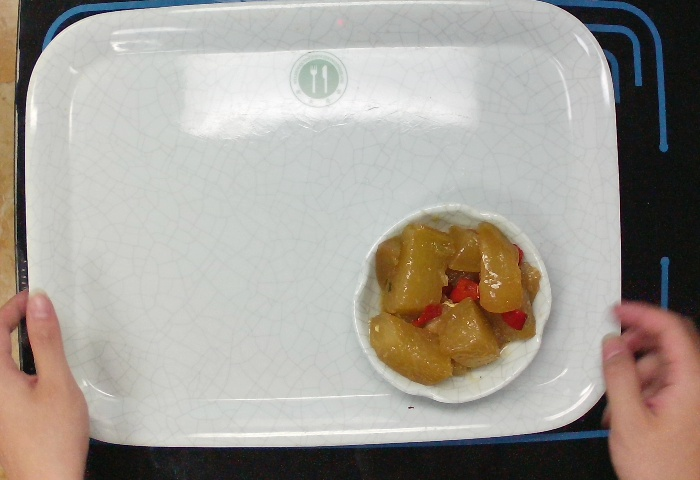JYsf-Ao_Yuan_Wan: (350, 203, 556, 404)
